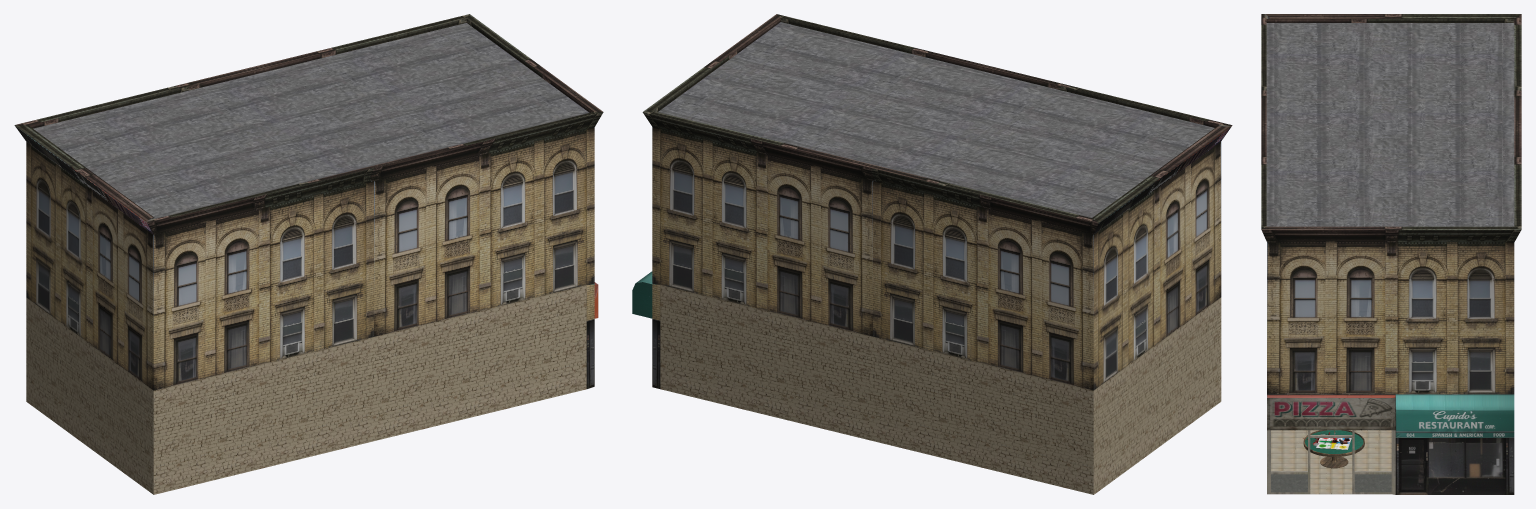
File: scene_render.glb
3 renders of one model, left to right at view 1: azimuth 30°, elevation 25°; view 2: azimuth 150°, elevation 25°; view 3: azimuth 270°, elevation 25°, orthographic. The views are drawn at different scales.
Parts seen in each view (by area): view 1: building_01.003; view 2: building_01.003; view 3: building_01.003, Cylinder.006, Cube.043.
Part boxes in pixels (<box>): building_01.003: <box>14,14,603,494</box>; building_01.003: <box>632,14,1232,494</box>; building_01.003: <box>1261,14,1521,494</box>; Cylinder.006: <box>1303,430,1364,468</box>; Cube.043: <box>1316,434,1351,449</box>.
Bounding box in the file's own units: 20.53 × 11.55 × 10.15.
Materials: 64 (57 with a texture image).
